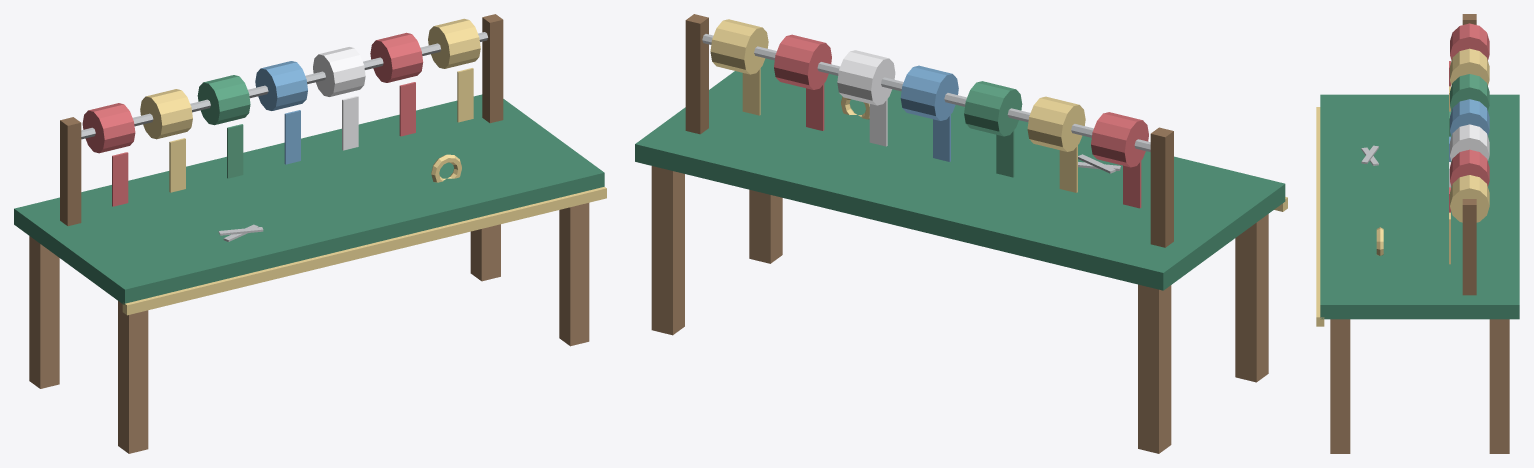
File: station_ribbon.glb
3 renders of one model, left to right at view 1: azimuth 30°, elevation 25°; view 2: azimuth 150°, elevation 25°; view 3: azimuth 270°, elevation 25°, orthographic. The views are drawn at different scales.
Visible parts, largest first — view 1: Table top, Leg.-1.-1, Table trim, Spool.0, Rack post.-1, Spool.3, Spool.2, Spool.4, Rack rod; view 2: Table top, Leg.-1.-1, Table trim, Spool.0, Rack post.-1, Spool.2, Spool.4, Spool.3, Rack rod; view 3: Table top, Leg.-1.-1, Table trim, Spool.0, Rack post.-1, Spool.4, Spool.2, Spool.3, Rack rod.
Boxes of the visible parts, x1,y1,x2,y2 form: Table top: (14, 94, 604, 304); Leg.-1.-1: (29, 203, 589, 453); Table trim: (122, 18, 606, 315); Spool.0: (82, 32, 423, 206); Rack post.-1: (60, 14, 503, 226); Spool.3: (255, 61, 307, 164); Spool.2: (197, 75, 250, 178); Spool.4: (313, 47, 365, 150); Rack rod: (81, 32, 488, 241); Table top: (635, 58, 1285, 290); Leg.-1.-1: (651, 166, 1268, 453); Table trim: (710, 19, 1287, 211); Spool.0: (774, 34, 1148, 208); Rack post.-1: (685, 14, 1173, 247); Spool.2: (964, 81, 1022, 177); Spool.4: (837, 50, 895, 146); Spool.3: (900, 65, 958, 161); Rack rod: (702, 34, 1150, 173); Table top: (1320, 94, 1519, 319); Leg.-1.-1: (1330, 319, 1509, 453); Table trim: (1316, 48, 1489, 326); Spool.0: (1449, 23, 1489, 212); Rack post.-1: (1462, 14, 1476, 295); Spool.4: (1449, 124, 1489, 187); Spool.2: (1449, 74, 1489, 136); Spool.3: (1449, 99, 1489, 161); Rack rod: (1361, 145, 1378, 165).
Bounding box in the file's own units: 2.5 × 1.37 × 1.02.
